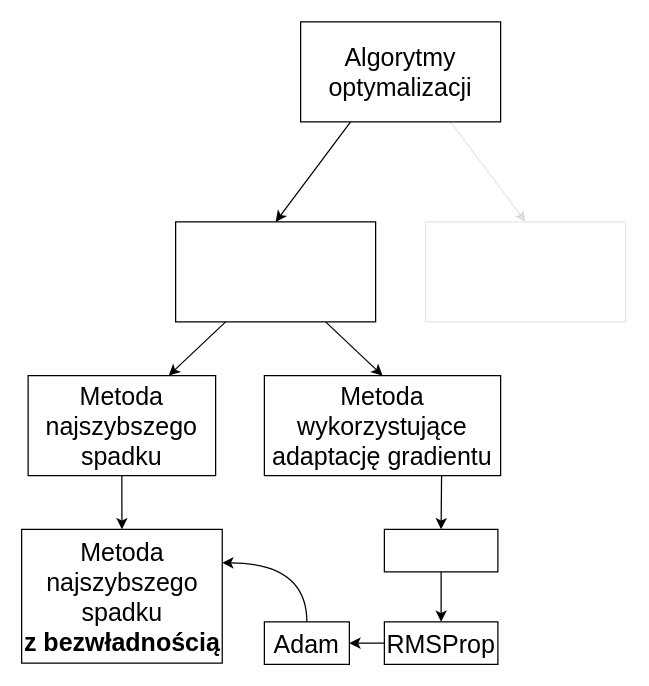
Image size: 649x686. Some labels were removed from this diagram. The shapes that lost their labels are listed below. From the top down, each one's centre as x and y in pixels, then its label:
the point at 275,271: Metody pierwszego rzędu
the point at 525,271: Metody drugiego rzędu
the point at 440,550: Adagrad
